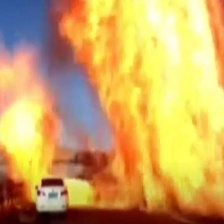fire: (60, 2, 223, 207), (2, 41, 52, 196)
